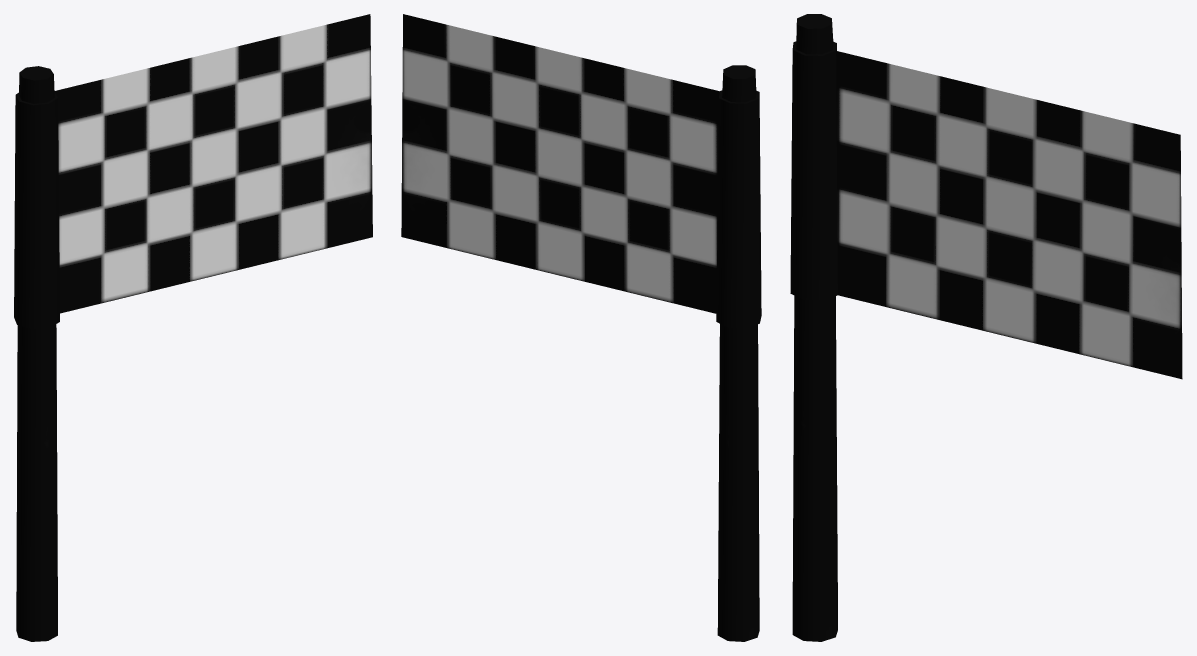
The model's file is BandeiraQuadriculada.fbx.
The picture shows the model from 3 angles, left to right: view 1: azimuth 30°, elevation 25°; view 2: azimuth 150°, elevation 25°; view 3: azimuth 330°, elevation 25°; orthographic projection. The views are drawn at different scales.
Visible parts, largest first — view 1: BandeiraQuadriculada, BandeiraQuadriculada_Haste; view 2: BandeiraQuadriculada, BandeiraQuadriculada_Haste; view 3: BandeiraQuadriculada, BandeiraQuadriculada_Haste.
Part boxes in pixels (x1,y1,x2,y2): BandeiraQuadriculada: (54, 14, 372, 313); BandeiraQuadriculada_Haste: (14, 66, 59, 641); BandeiraQuadriculada: (401, 14, 719, 313); BandeiraQuadriculada_Haste: (716, 65, 761, 641); BandeiraQuadriculada: (836, 51, 1182, 379); BandeiraQuadriculada_Haste: (790, 14, 837, 641).
Size of the model in its own units: 0.385 by 0.5773 by 0.0441.
